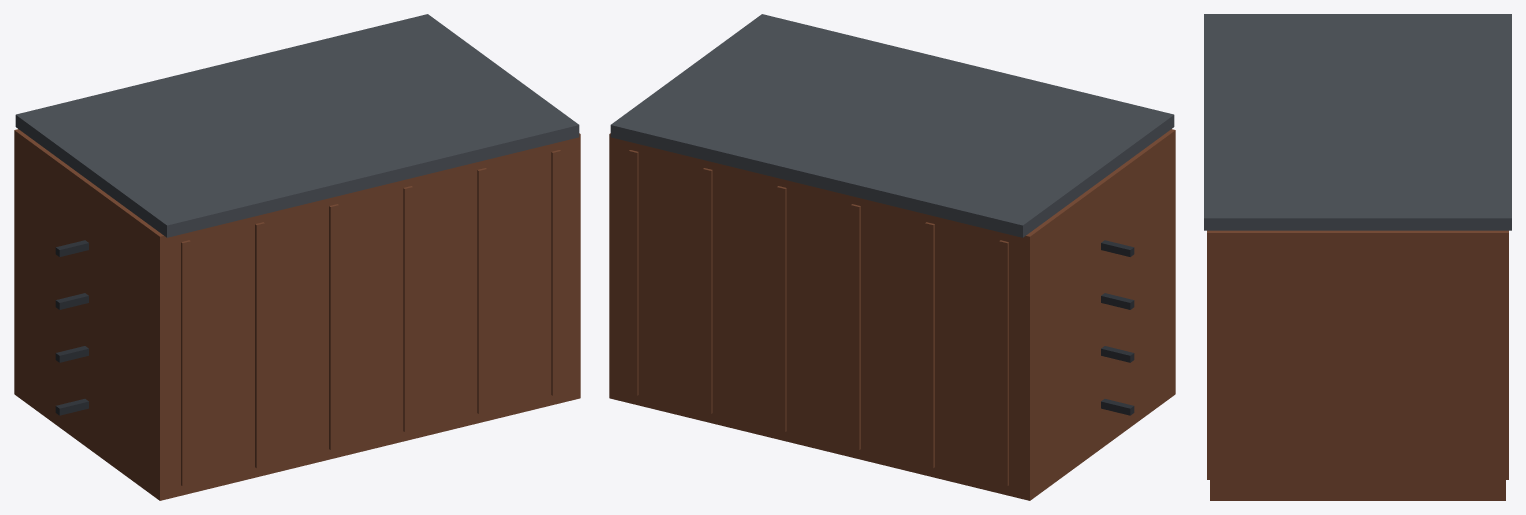
File: platform_a.glb
The picture shows the model from 3 angles, left to right: view 1: azimuth 30°, elevation 25°; view 2: azimuth 150°, elevation 25°; view 3: azimuth 270°, elevation 25°; orthographic projection.
Visible parts, largest first — view 1: platform_a; view 2: platform_a; view 3: platform_a.
Part boxes in pixels (left/top/right/bottom): platform_a: left=14, top=14, right=580, bottom=500; platform_a: left=609, top=14, right=1175, bottom=500; platform_a: left=1204, top=14, right=1511, bottom=500.
Bounding box in the file's own units: 5.35 × 3.14 × 3.12.
